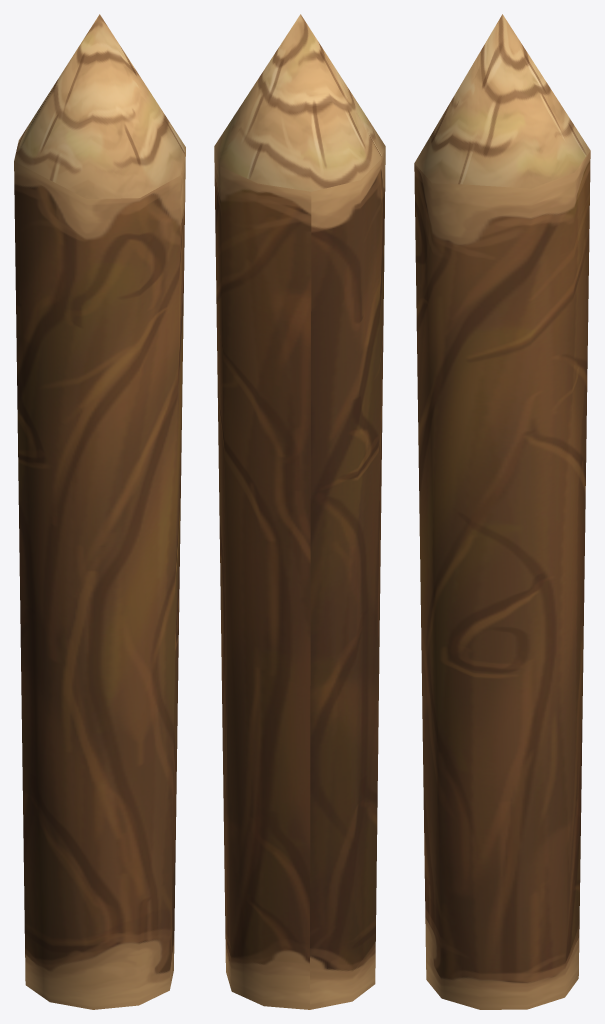
File: wooden_pillar_03.fbx
3 renders of one model, left to right at view 1: azimuth 30°, elevation 25°; view 2: azimuth 150°, elevation 25°; view 3: azimuth 270°, elevation 25°, orthographic.
Visible parts, largest first — view 1: wooden_pillar_03; view 2: wooden_pillar_03; view 3: wooden_pillar_03.
Part boxes in pixels (box(x1,y1,x2,y2)): wooden_pillar_03: box(14, 14, 185, 1009); wooden_pillar_03: box(214, 14, 385, 1009); wooden_pillar_03: box(414, 14, 590, 1009).
Bounding box in the file's own units: 1.46 × 9.29 × 1.54.
